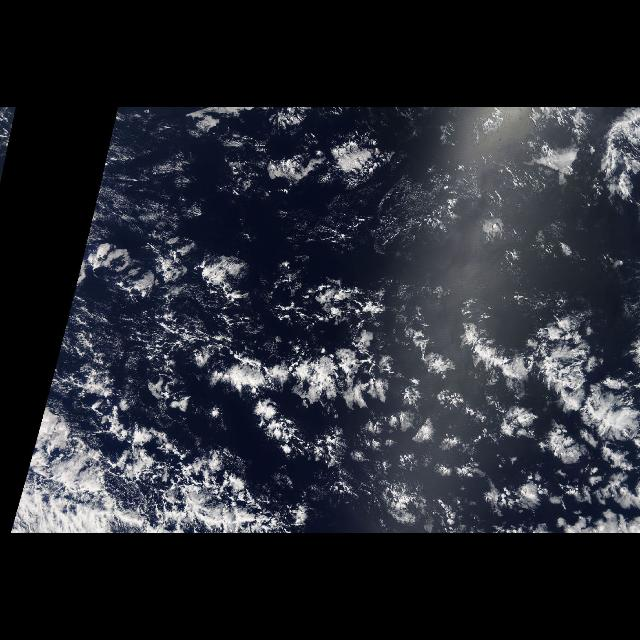Flower: (181, 246, 639, 530)
